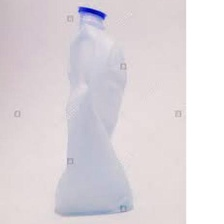bottle: (50, 4, 144, 220)
